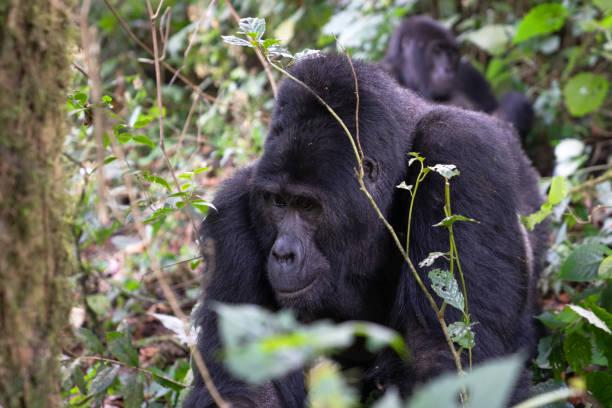goriile_montagne: (188, 7, 602, 408)
